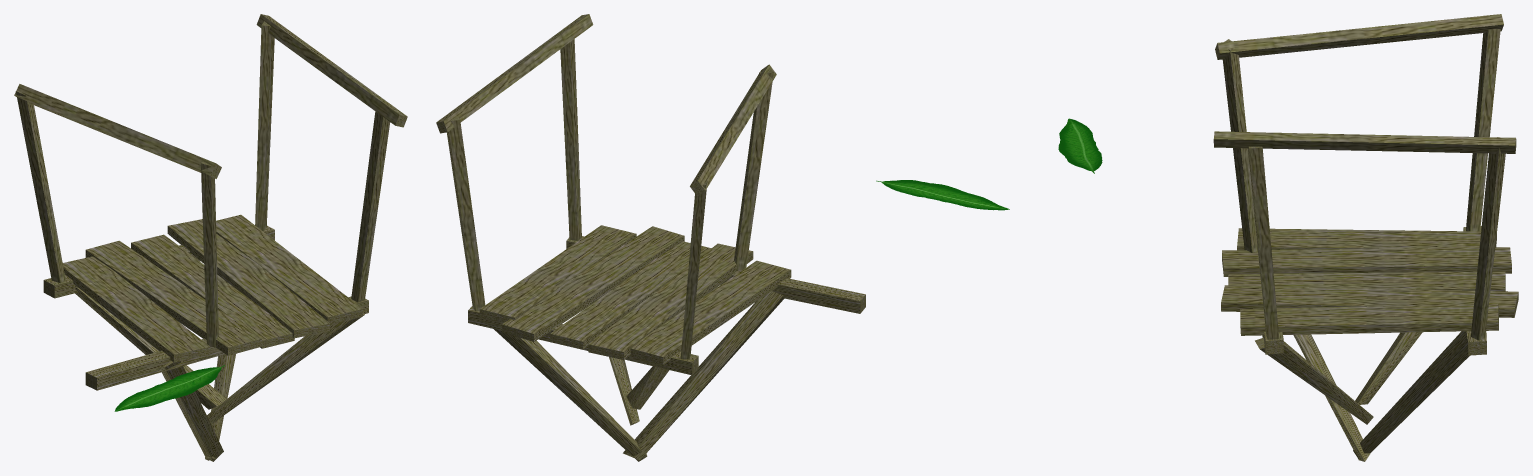
File: treehouse2.obj
3 views of the same model, side by side, from view 1: azimuth 30°, elevation 25°; view 2: azimuth 150°, elevation 25°; view 3: azimuth 270°, elevation 25° (orthographic). The views are drawn at different scales.
Visible parts, largest first — view 1: Duplicate09, Duplicate13, Duplicate12, Duplicate10, Duplicate02, Duplicate05, Duplicate04, Duplicate11, Duplicate03, Duplicate01, Box01, Duplicate06; view 2: Duplicate03, Duplicate09, Duplicate10, Duplicate13, Duplicate12, Duplicate02, Duplicate11, Duplicate01, Duplicate05, Duplicate04, Duplicate06, Box01; view 3: Duplicate09, Duplicate05, Duplicate12, Duplicate04, Duplicate10, Duplicate03, Duplicate13, Duplicate11, Duplicate01, Duplicate02, Box01, Duplicate06.
Part boxes in pixels (x1,y1,x2,y2): Duplicate09: (114, 214, 362, 411); Duplicate13: (62, 256, 210, 362); Duplicate12: (85, 240, 261, 355); Duplicate10: (167, 219, 329, 338); Duplicate02: (85, 111, 390, 390); Duplicate05: (207, 14, 407, 423); Duplicate04: (14, 84, 226, 409); Duplicate11: (131, 234, 294, 348); Duplicate03: (162, 21, 274, 461); Duplicate01: (43, 161, 274, 347); Box01: (16, 90, 65, 283); Duplicate06: (205, 354, 235, 460); Duplicate03: (446, 116, 784, 460); Duplicate09: (479, 180, 1009, 322); Duplicate10: (502, 226, 684, 341); Duplicate13: (629, 260, 791, 364); Duplicate12: (588, 243, 753, 359); Duplicate02: (560, 39, 865, 313); Duplicate11: (550, 241, 711, 349); Duplicate01: (468, 69, 773, 375); Duplicate05: (436, 14, 639, 425); Duplicate04: (626, 64, 776, 409); Duplicate06: (494, 329, 647, 461); Box01: (680, 180, 707, 359); Duplicate09: (1058, 118, 1498, 335); Duplicate05: (1213, 131, 1516, 424); Duplicate12: (1222, 247, 1511, 276); Duplicate04: (1215, 14, 1503, 404); Duplicate10: (1221, 285, 1518, 317); Duplicate03: (1293, 137, 1505, 461); Duplicate13: (1237, 228, 1496, 250); Duplicate11: (1228, 271, 1505, 291); Duplicate01: (1222, 39, 1486, 355); Duplicate02: (1248, 146, 1283, 354); Box01: (1466, 29, 1500, 231); Duplicate06: (1353, 331, 1469, 458).
Size of the model in its own units: 103 by 99.02 by 109.
